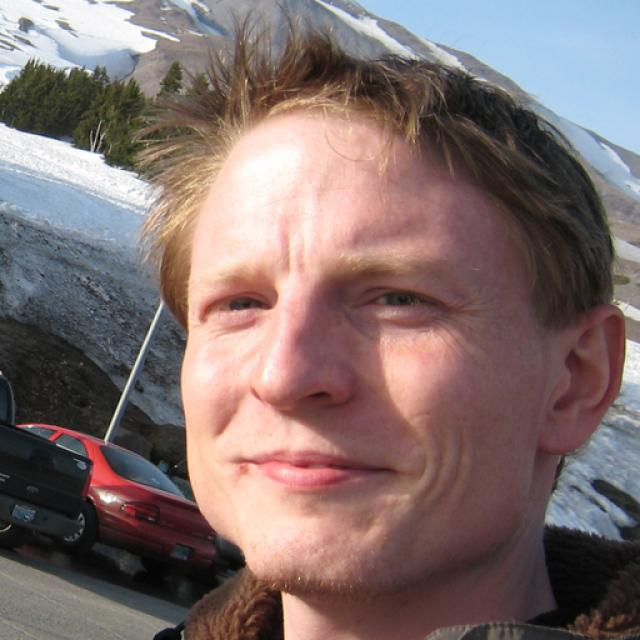happy: (181, 132, 544, 592)
